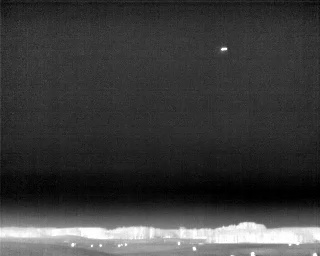AIRPLANE: (218, 44, 230, 55)
